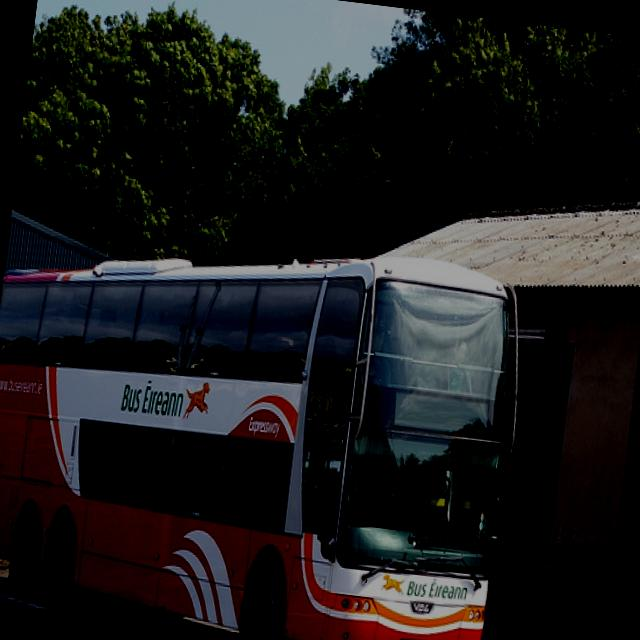Vehicle: (0, 214, 526, 640)
